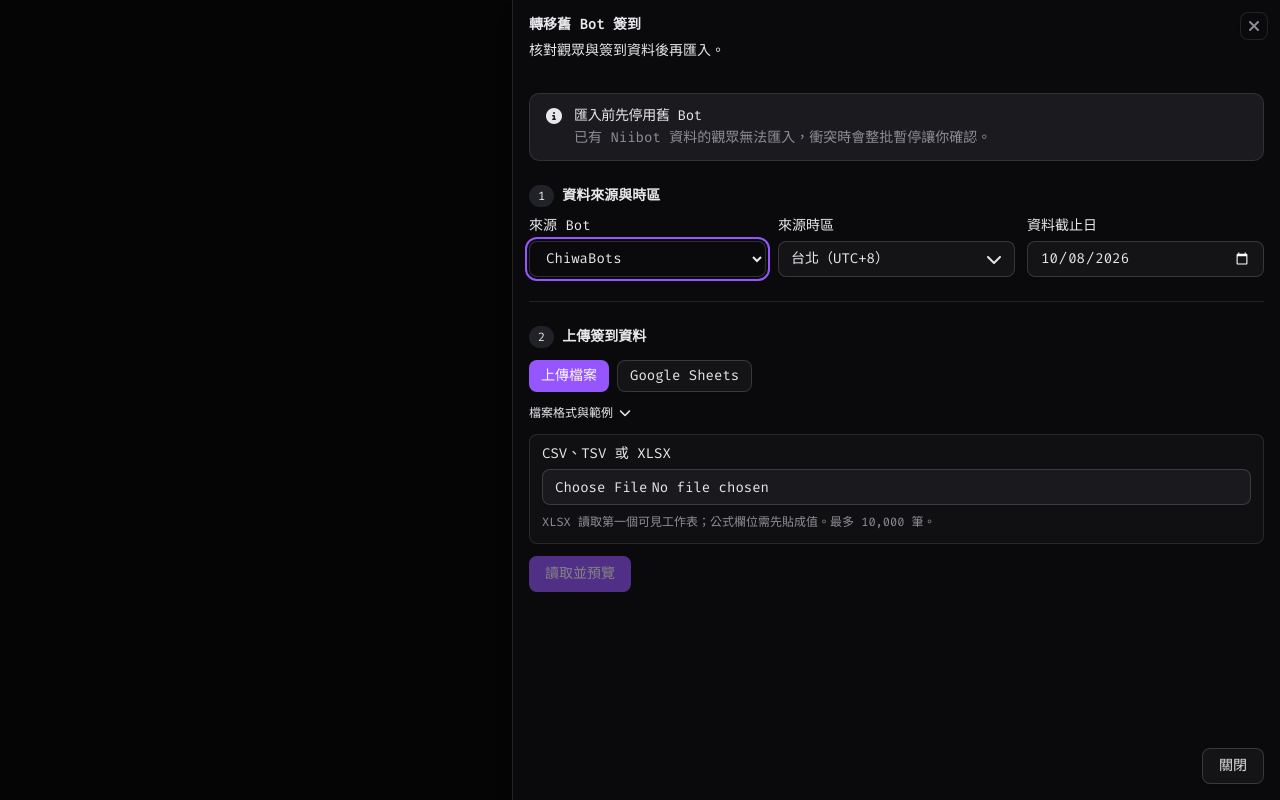
CheckinImportSheet › explains and accepts public Google Sheets links without OAuth credentials
Click the button "Google Sheets" at [685, 376], box [617,360,752,392]
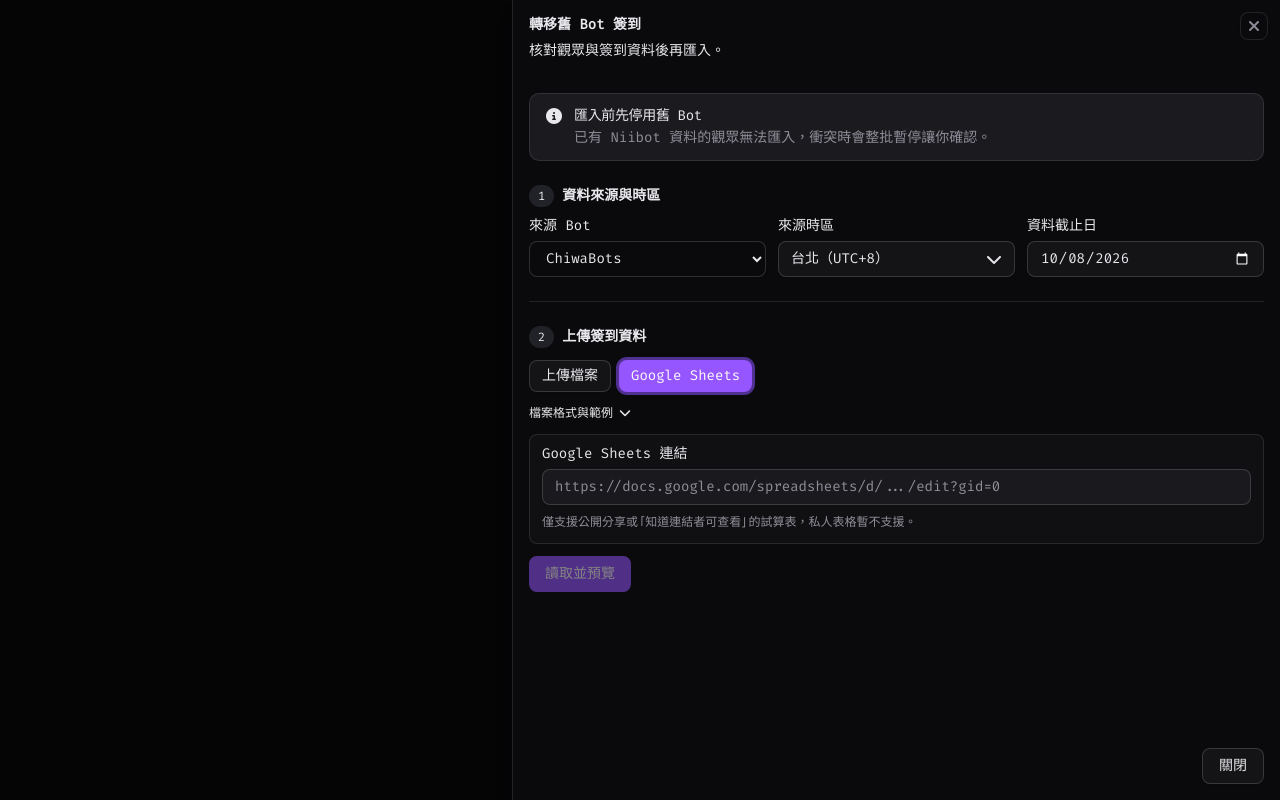
expect the text "僅支援公開分享或「知道連結者可查看」的試算表，私人表格暫不支援。" is shown: met, box [542,514,916,530]
Type "https://docs.google.com/spreadsheets/d/abc123/edit?gid=0" into the field labelled "Google Sheets 連結" at [896, 486], box [542,468,1251,504]
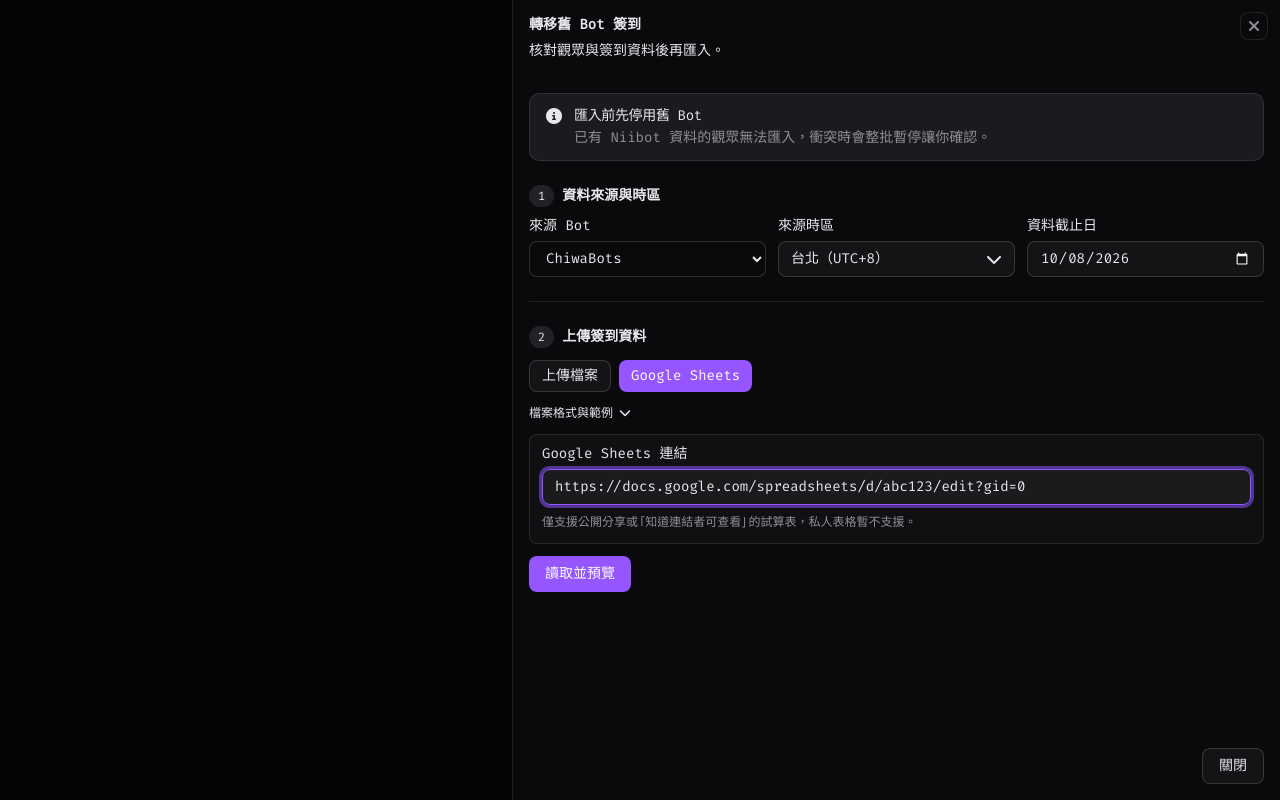
Click the button "讀取並預覽" at [580, 574], box [529,556,631,592]
(page scrolled)
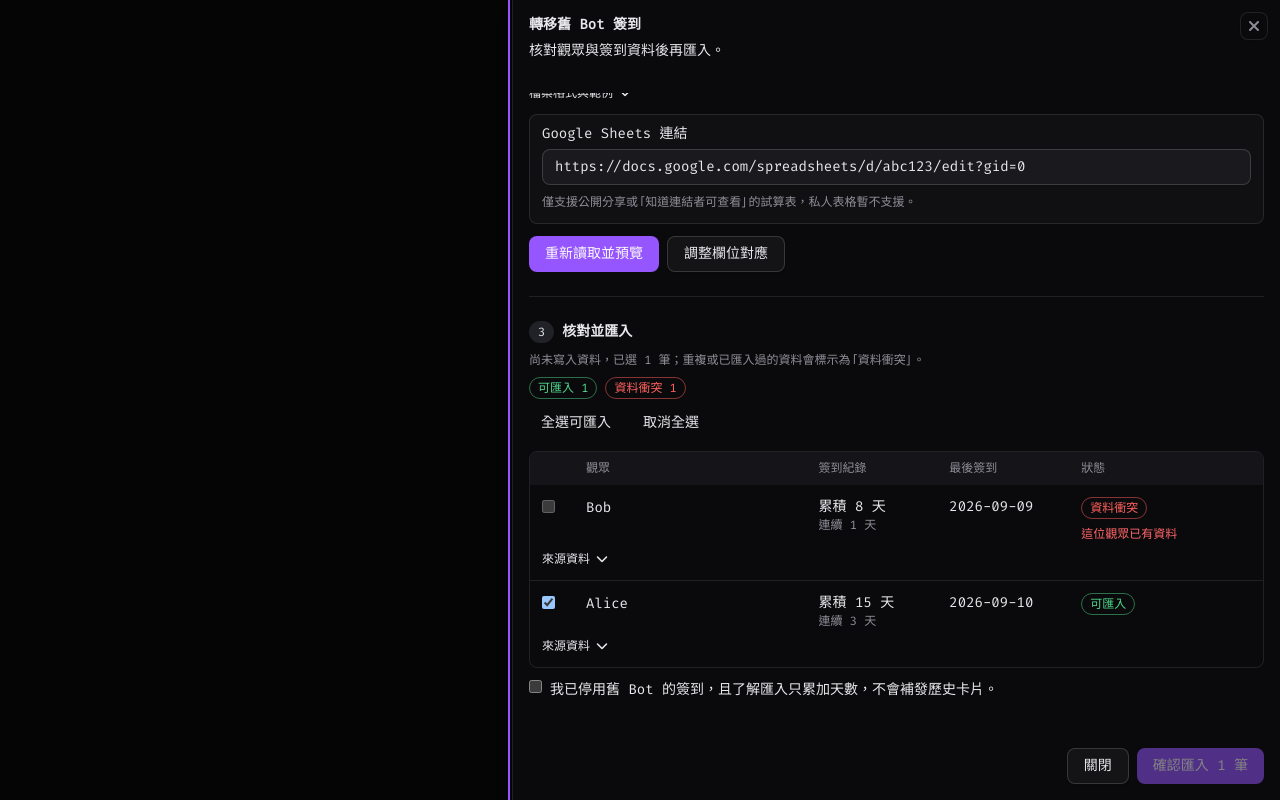
expect the text "Alice" is shown: met, box [586,594,628,613]
